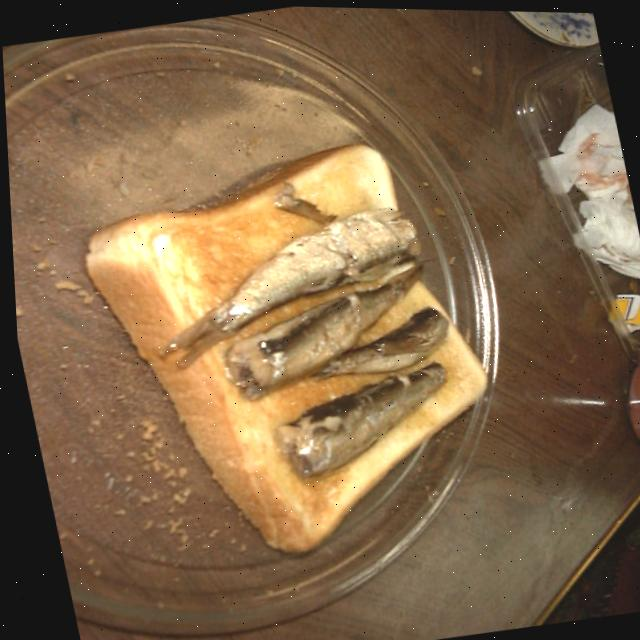面包点心: (70, 149, 519, 554)
